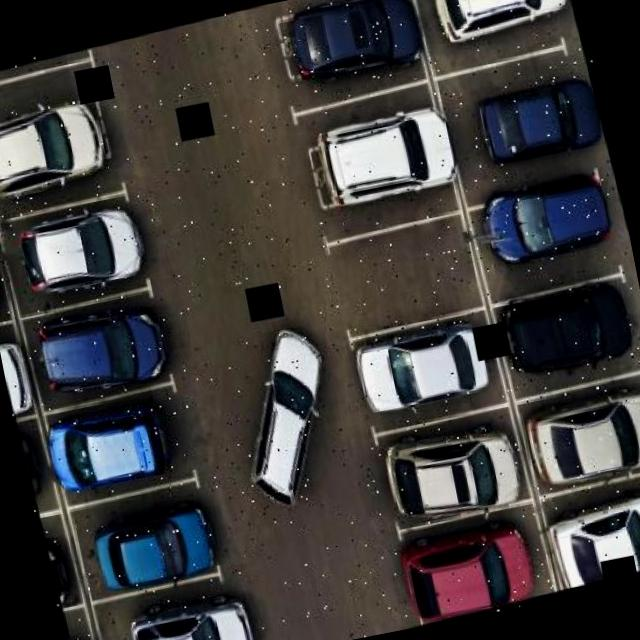car: (471, 147, 629, 296), (488, 257, 640, 397), (27, 278, 184, 411), (302, 90, 466, 216), (340, 306, 500, 432), (1, 183, 158, 309), (467, 54, 612, 190), (376, 418, 534, 542), (80, 480, 229, 609), (40, 391, 186, 514), (388, 514, 540, 628), (511, 374, 640, 505), (276, 0, 425, 93), (0, 92, 117, 207), (418, 0, 579, 70), (109, 570, 263, 640), (542, 480, 640, 589), (42, 523, 84, 622), (18, 422, 54, 513), (0, 335, 38, 420), (0, 232, 8, 324)
free: (320, 212, 478, 334)
